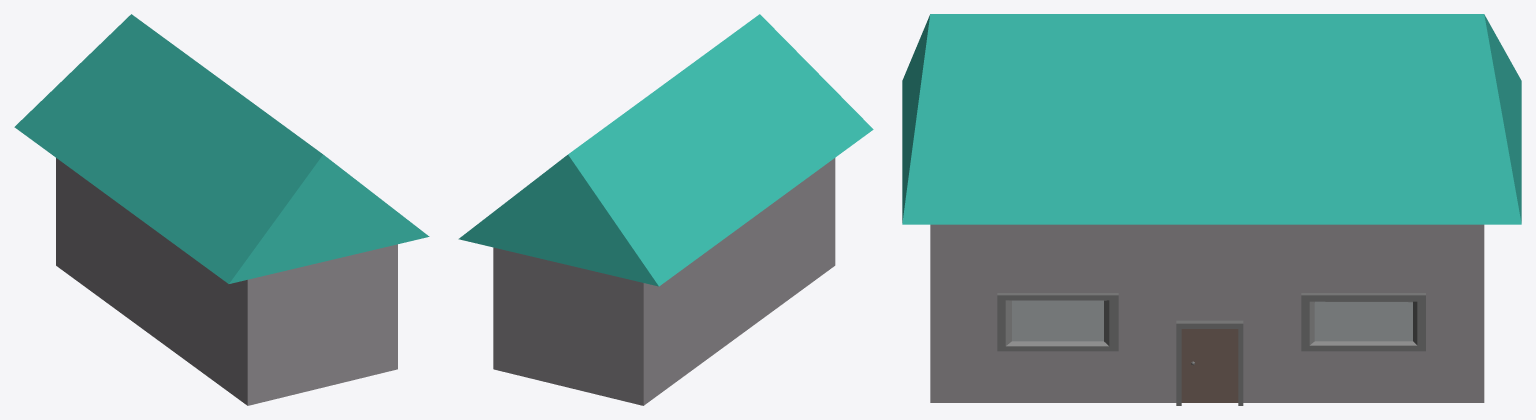
File: Small 4.fbx
3 renders of one model, left to right at view 1: azimuth 30°, elevation 25°; view 2: azimuth 150°, elevation 25°; view 3: azimuth 270°, elevation 25°, orthographic. The views are drawn at different scales.
Visible parts, largest first — view 1: pCube2; view 2: pCube2; view 3: pCube2.
Boxes of the visible parts, x1=… form: pCube2: x1=14, y1=14, x2=429, y2=405; pCube2: x1=458, y1=14, x2=873, y2=405; pCube2: x1=902, y1=14, x2=1521, y2=405.
Bounding box in the file's own units: 7.99 × 8.86 × 14.79.
